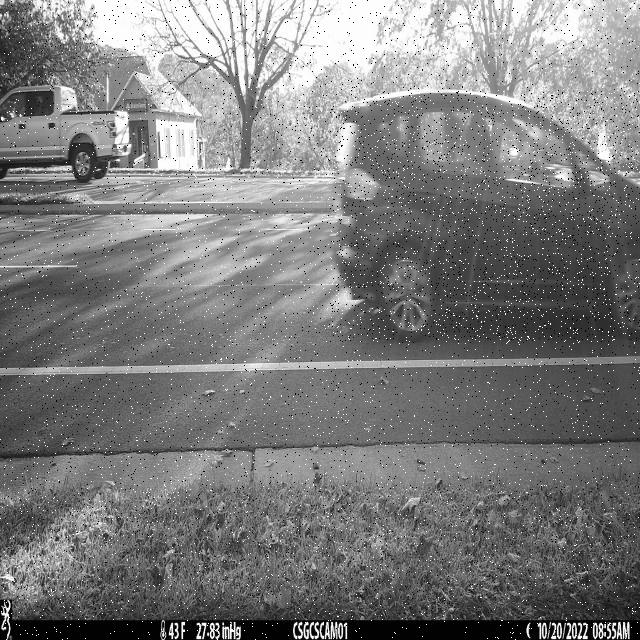Hatchback: (332, 90, 640, 343)
